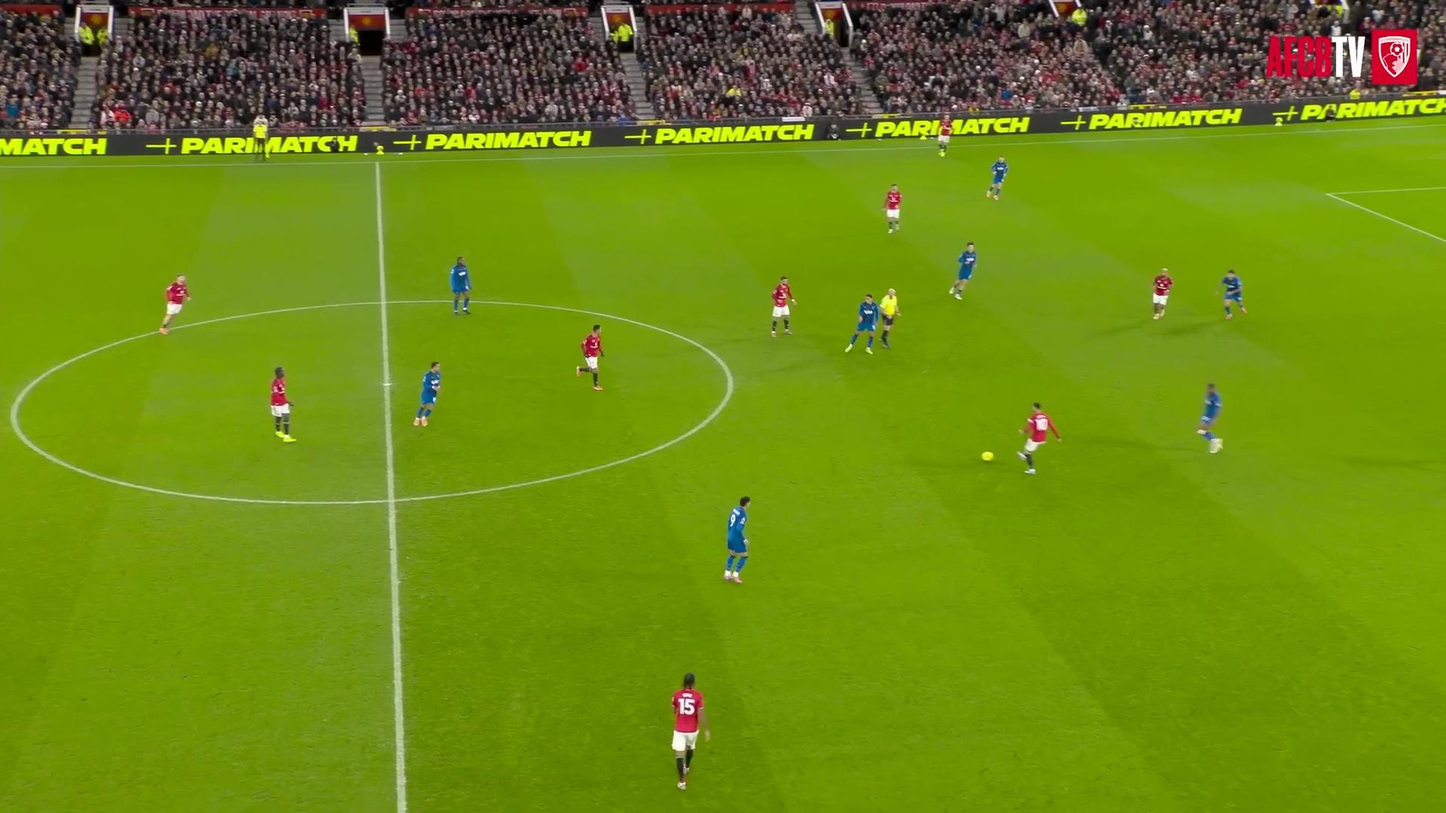football: (978, 447, 998, 467)
player: (672, 672, 710, 789), (1017, 403, 1061, 474), (724, 496, 750, 583), (845, 294, 879, 354), (576, 324, 603, 391), (270, 367, 294, 442), (413, 361, 441, 425), (159, 274, 189, 333), (1197, 383, 1222, 453), (949, 242, 976, 299), (770, 276, 795, 336), (1217, 269, 1246, 319), (450, 257, 471, 315), (1152, 268, 1173, 319), (987, 156, 1008, 199), (884, 184, 901, 233), (938, 114, 952, 157)
referee: (879, 289, 899, 348), (252, 114, 267, 160)
